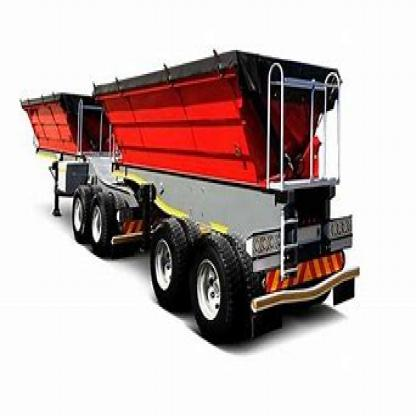dump_truck: (21, 38, 359, 348)
